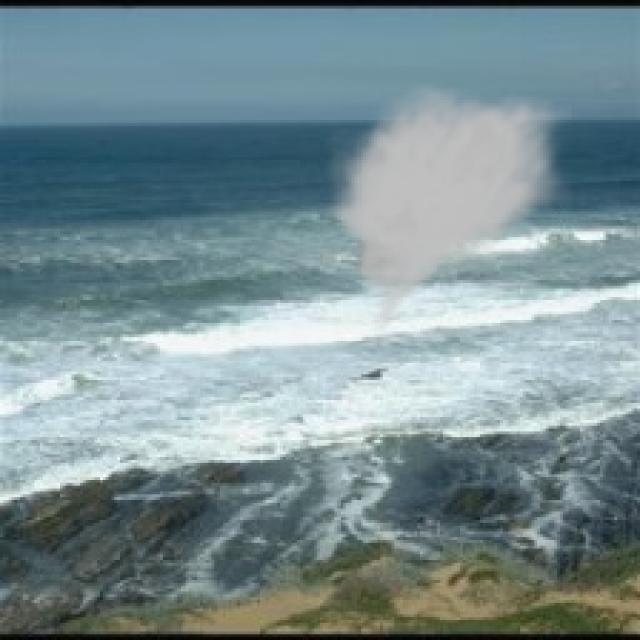smoke: (323, 83, 574, 343)
